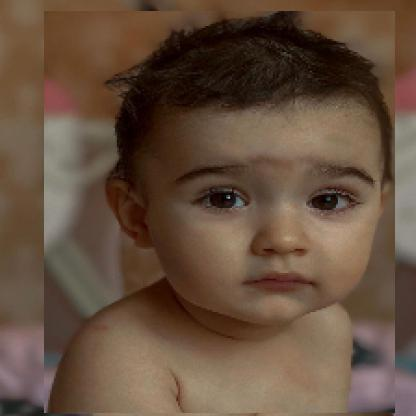child: (45, 12, 397, 415)
